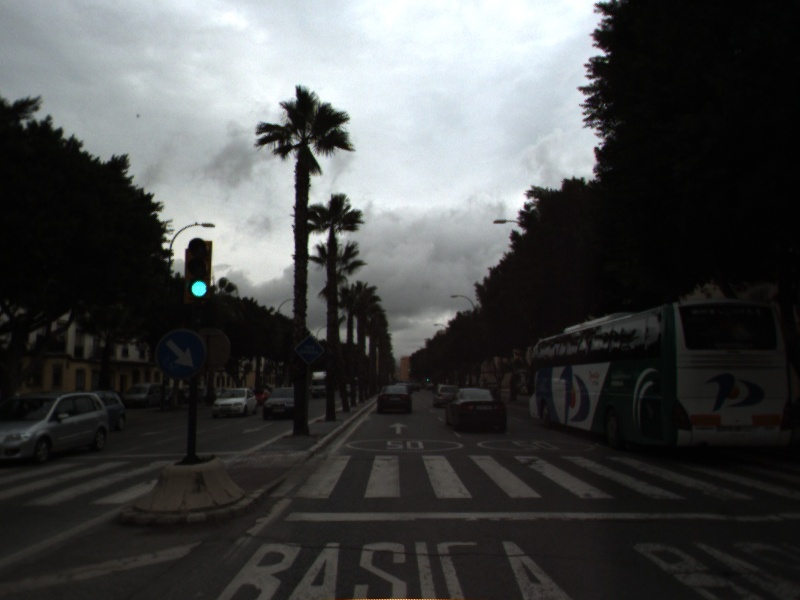STRAIGHT: (387, 420, 411, 436)
